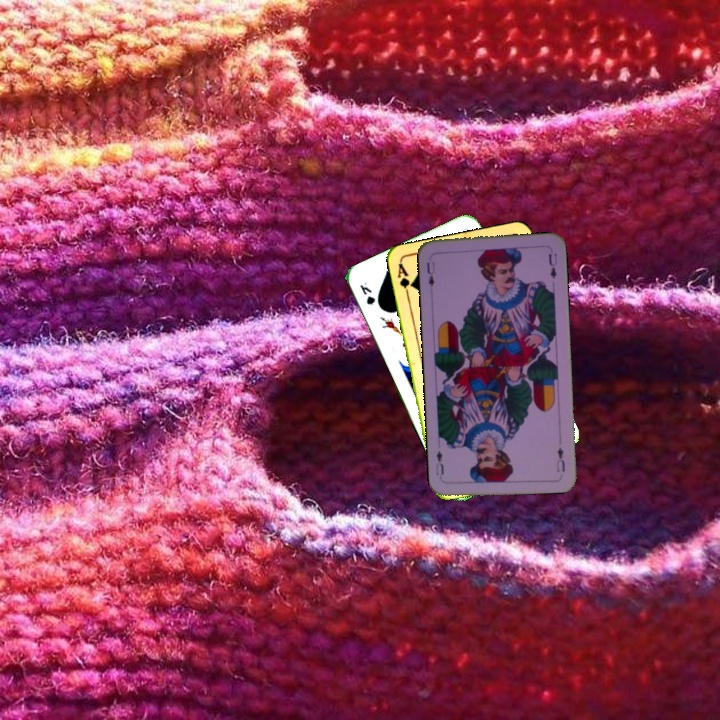EU: (423, 258, 438, 289), (552, 443, 567, 474)
GA: (393, 259, 416, 300)
GK: (356, 278, 378, 309)
